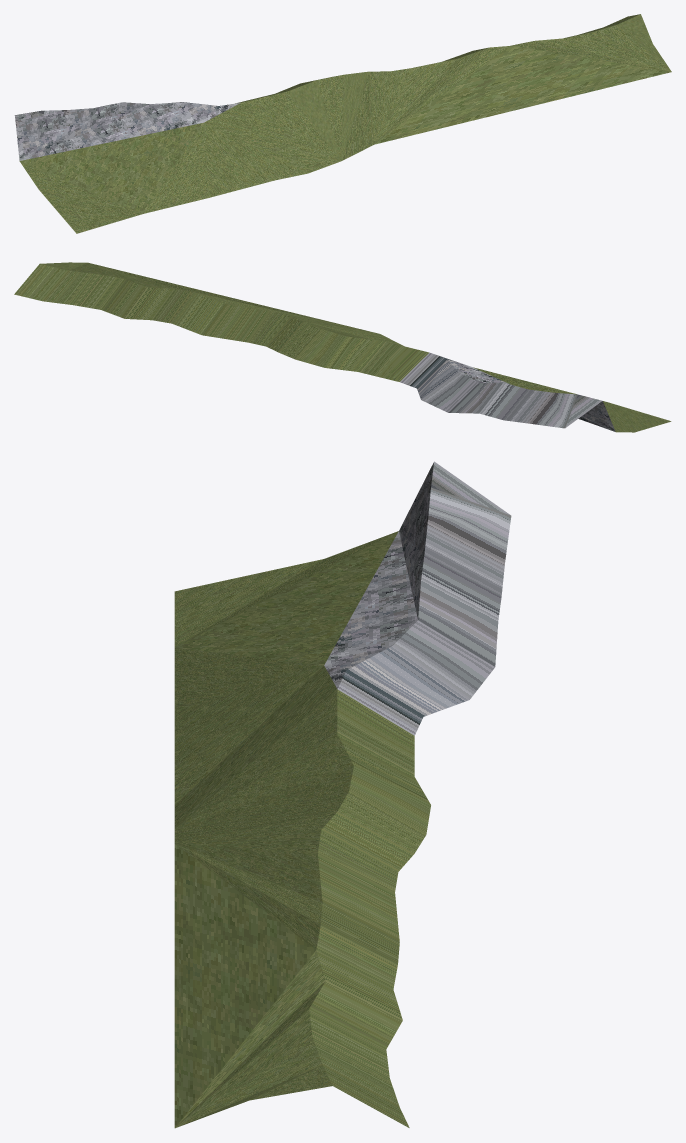
File: lodseabed101.obj
The picture shows the model from 3 angles, top to bottom: view 1: azimuth 30°, elevation 25°; view 2: azimuth 150°, elevation 25°; view 3: azimuth 270°, elevation 25°; orthographic projection. The views are drawn at different scales.
Parts seen in each view (by area): view 1: lodseabed101; view 2: lodseabed101; view 3: lodseabed101.
Part boxes in pixels (x1,y1,x2,y2): lodseabed101: (14,14,671,233); lodseabed101: (14,262,671,432); lodseabed101: (174,461,511,1128).
Size of the model in its own units: 457 by 48.91 by 111.
Materials: 2 (2 with a texture image).
